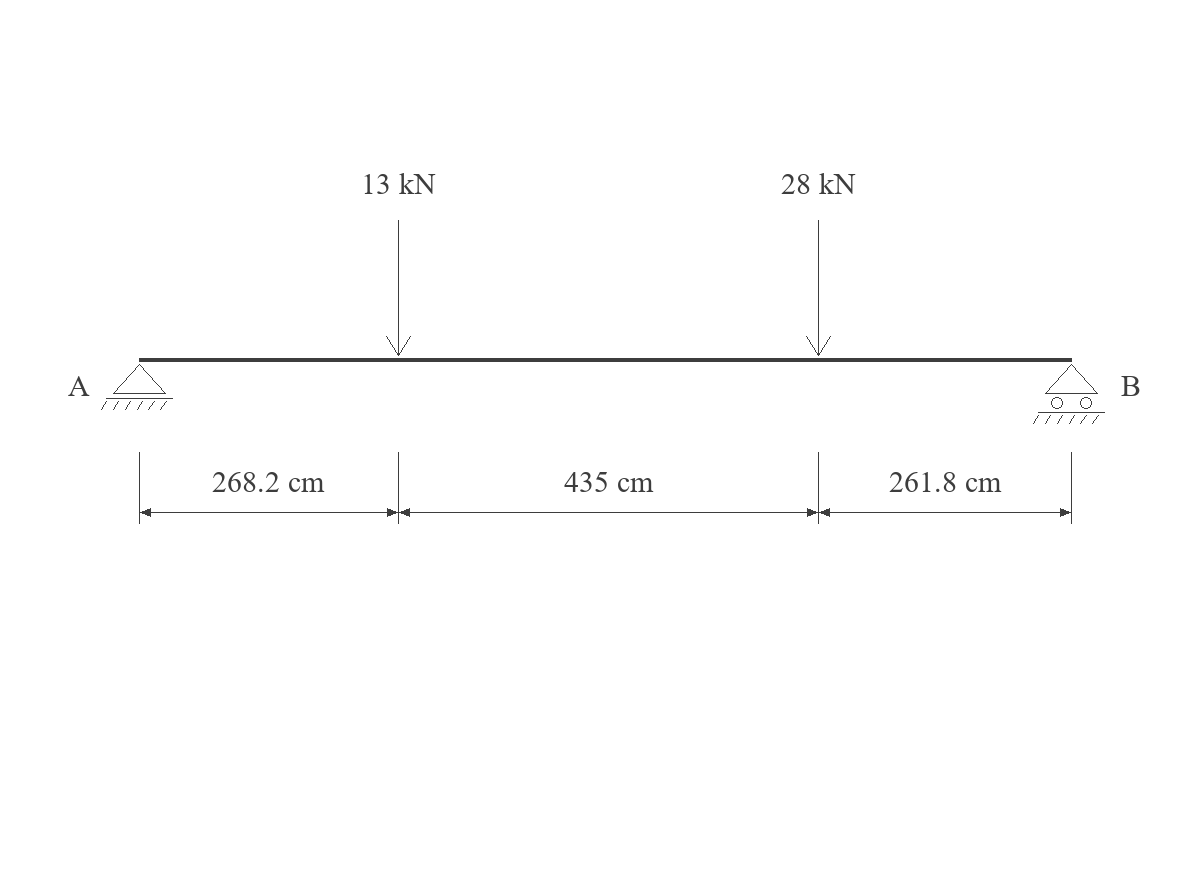pin_support: (101, 364, 173, 410)
point_load: (386, 220, 411, 356), (806, 220, 831, 356)
roller_support: (1033, 364, 1105, 424)
